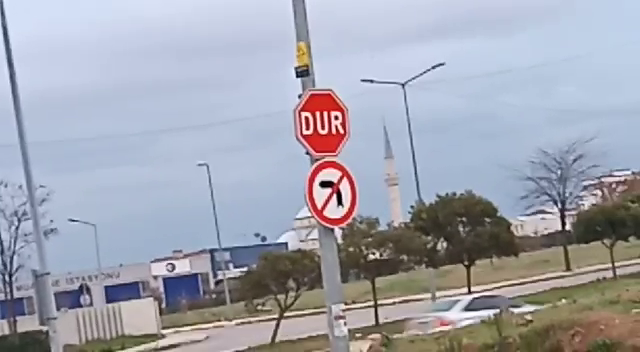no_left: (303, 158, 360, 232)
stop: (291, 85, 354, 161)
